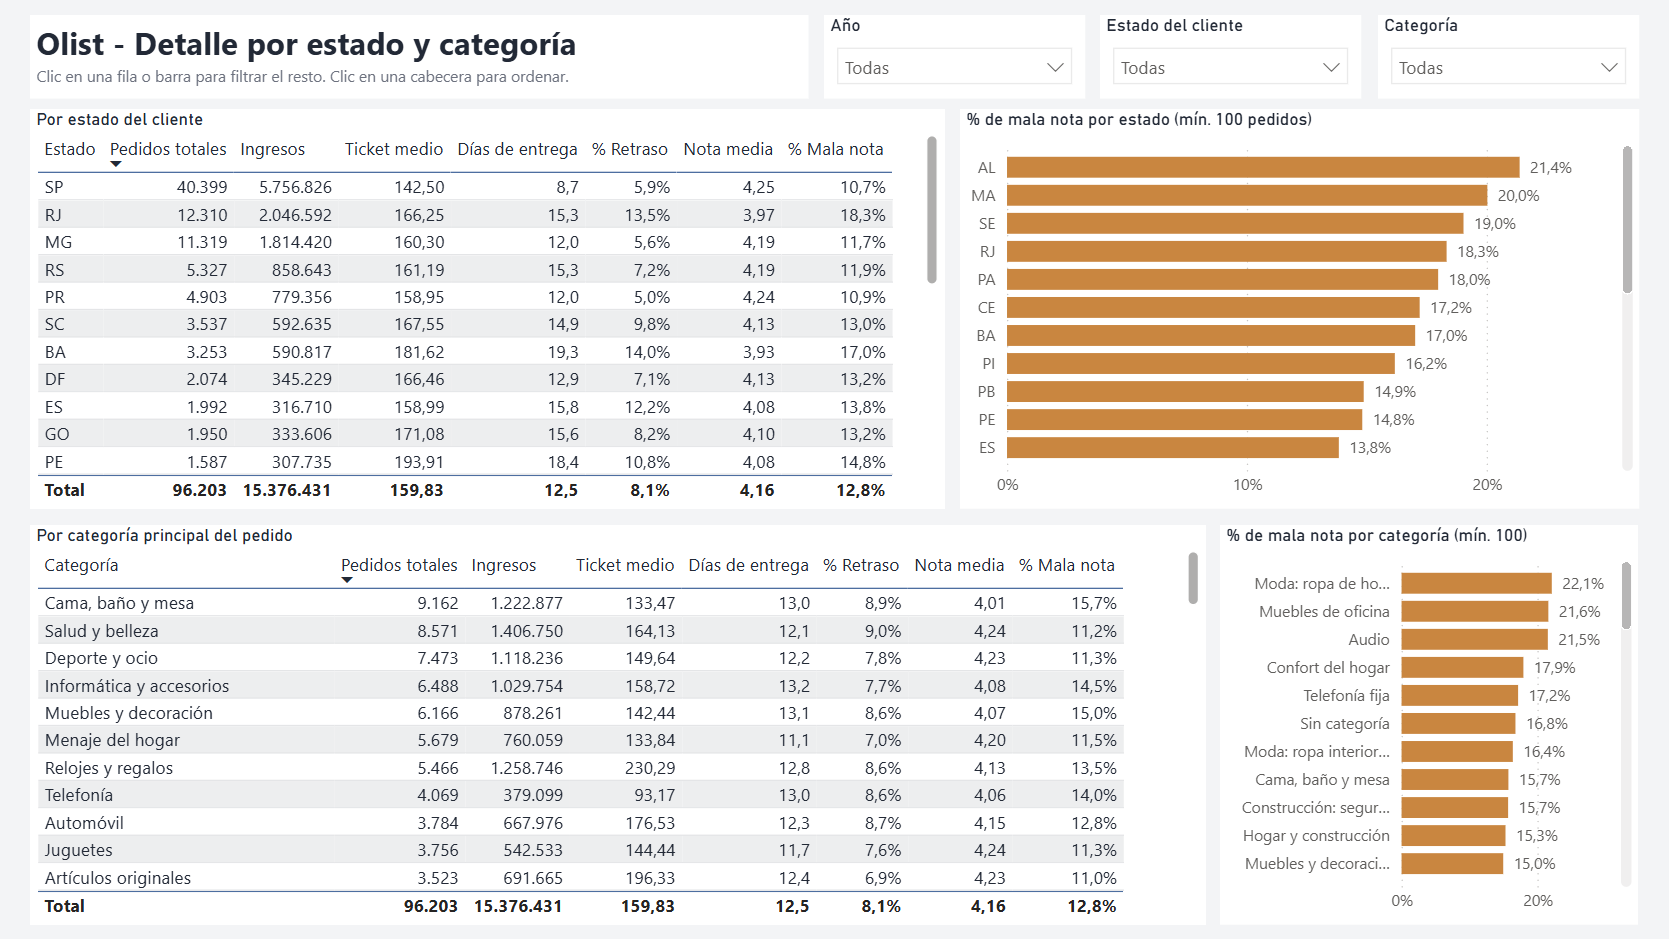

The dashboard page shown, as its layout file describes it:
{"tool":"powerbi","page":{"name":"Detalle por estado y categoría","canvas":[1280,720],"ordinal":3},"visuals":[{"type":"textbox","box":[24,12,596,64],"z":0},{"type":"slicer","title":"Año","fields":{"Values":["Calendario.Año"]},"box":[632,12,200,64],"z":1},{"type":"slicer","title":"Estado del cliente","fields":{"Values":["Pedidos.customer_state"]},"box":[844,12,200,64],"z":2},{"type":"slicer","title":"Categoría","fields":{"Values":["Pedidos.categoria_principal"]},"box":[1056,12,200,64],"z":3},{"type":"tableEx","title":"Por estado del cliente","fields":{"Values":["Pedidos.customer_state","Pedidos.Pedidos totales","Pedidos.Ingresos","Pedidos.Ticket medio","Pedidos.Días de entrega","Pedidos.% Retraso","Pedidos.Nota media","Pedidos.% Mala nota"]},"box":[24,84,700,306],"z":4},{"type":"barChart","title":"% de mala nota por estado (mín. 100 pedidos)","fields":{"Category":["Pedidos.customer_state"],"Y":["Pedidos.% Mala nota (mín. 100 pedidos)"]},"box":[736,84,520,306],"z":5},{"type":"tableEx","title":"Por categoría principal del pedido","fields":{"Values":["Pedidos.categoria_principal","Pedidos.Pedidos totales","Pedidos.Ingresos","Pedidos.Ticket medio","Pedidos.Días de entrega","Pedidos.% Retraso","Pedidos.Nota media","Pedidos.% Mala nota"]},"box":[24,402,900,306],"z":6},{"type":"barChart","title":"% de mala nota por categoría (mín. 100)","fields":{"Category":["Pedidos.categoria_principal"],"Y":["Pedidos.% Mala nota (mín. 100 pedidos)"]},"box":[936,402,320,306],"z":7}]}

Visuals, with their boxes in screenshot pixels (x1, y1, x2, y2), scaled from the page's 1280x720 canvas onto the 1669x939 screenshot:
textbox: locate(31, 16, 808, 99)
"Año" slicer: locate(824, 16, 1085, 99)
"Estado del cliente" slicer: locate(1100, 16, 1361, 99)
"Categoría" slicer: locate(1377, 16, 1638, 99)
"Por estado del cliente" tableEx: locate(31, 110, 944, 509)
"% de mala nota por estado (mín. 100 pedidos)" barChart: locate(960, 110, 1638, 509)
"Por categoría principal del pedido" tableEx: locate(31, 524, 1205, 923)
"% de mala nota por categoría (mín. 100)" barChart: locate(1220, 524, 1638, 923)
